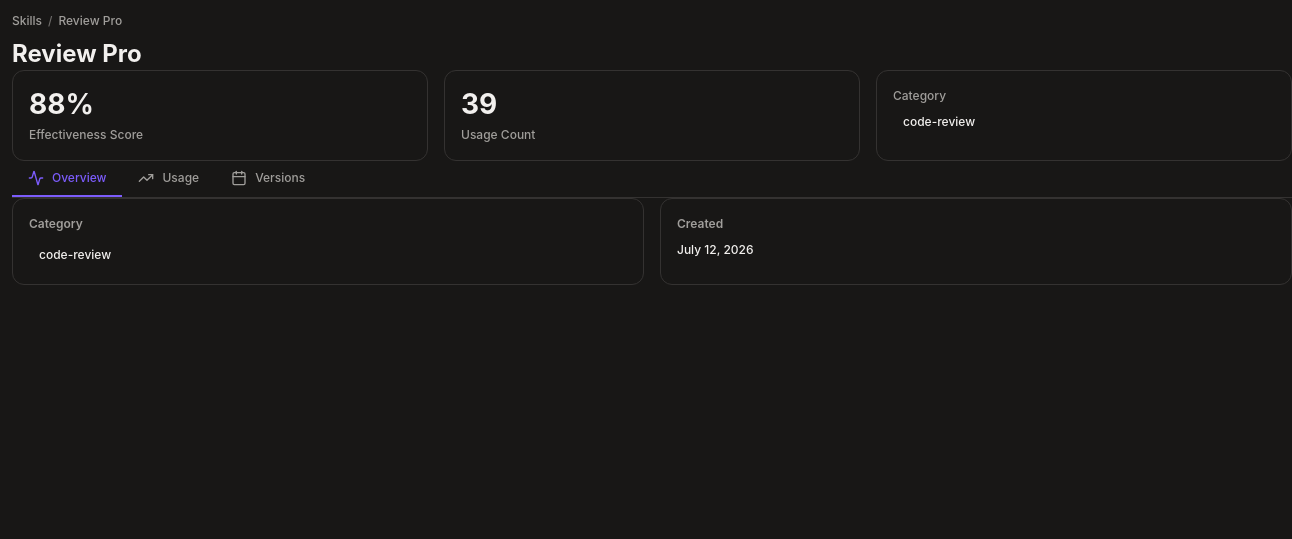
Test: SkillDetailPage › switches to Usage tab and shows trend chart
The width and height of the screenshot is (1292, 539).
Click the Usage tab
Click the tab "Usage" at (169, 179), box [122,161,215,197]
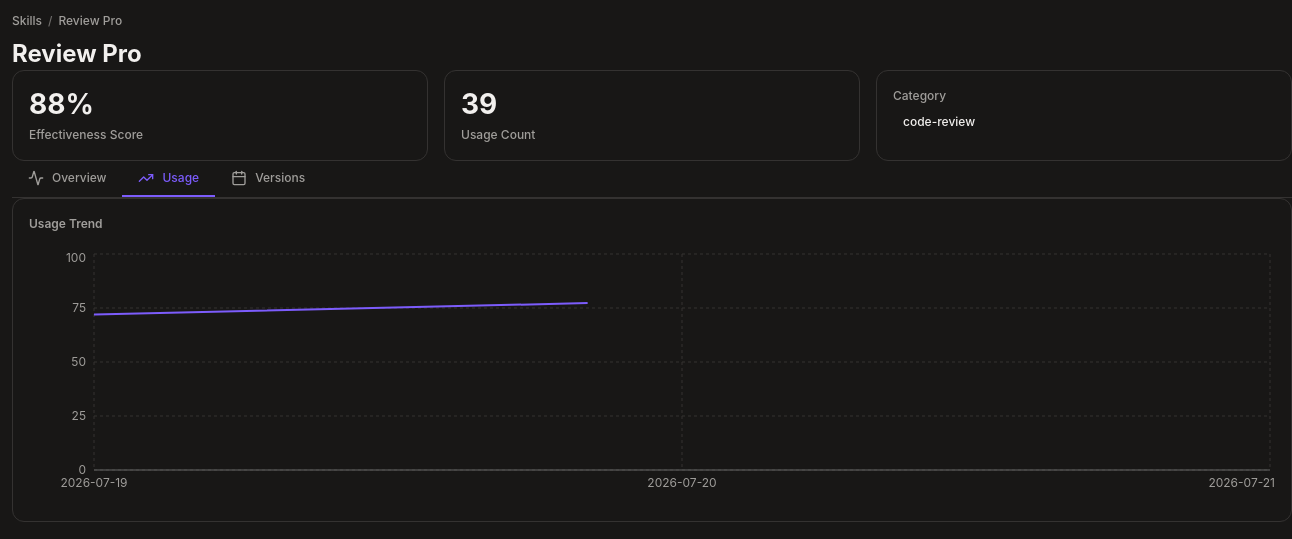
Check: the element with class "recharts-responsive-container" is shown, box [29,249,1275,505]
Check: the heading "Usage Trend" is shown, box [29,216,103,231]
